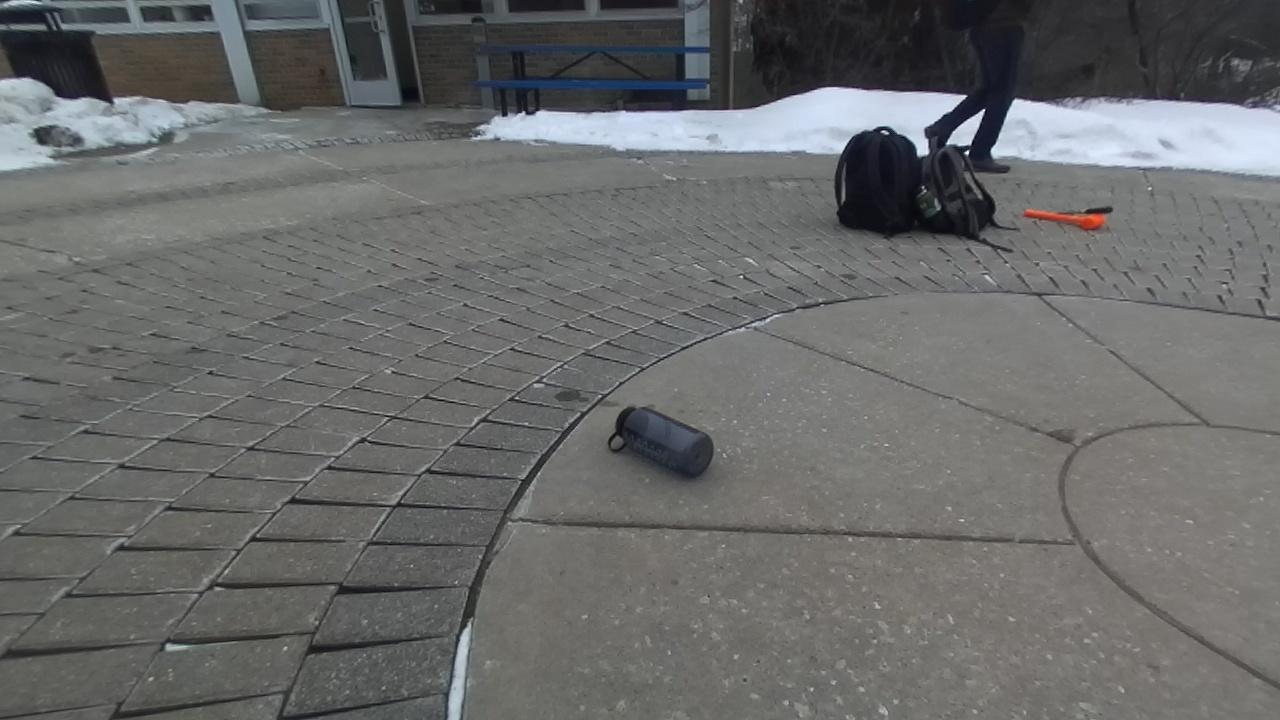bottle: (610, 408, 713, 476)
mallet: (1024, 209, 1104, 229)
